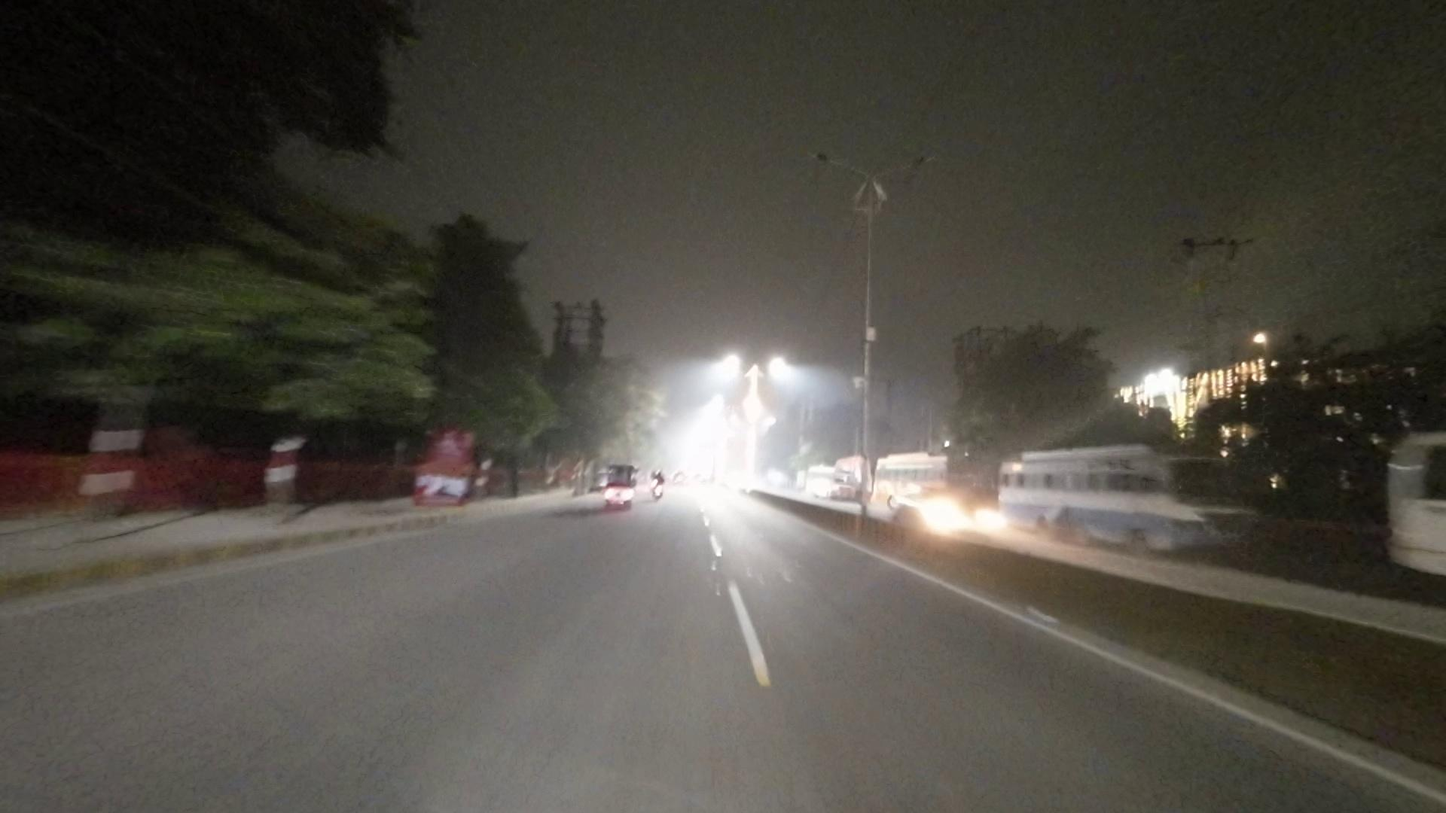streetlight: (805, 144, 865, 176), (877, 151, 945, 177)
